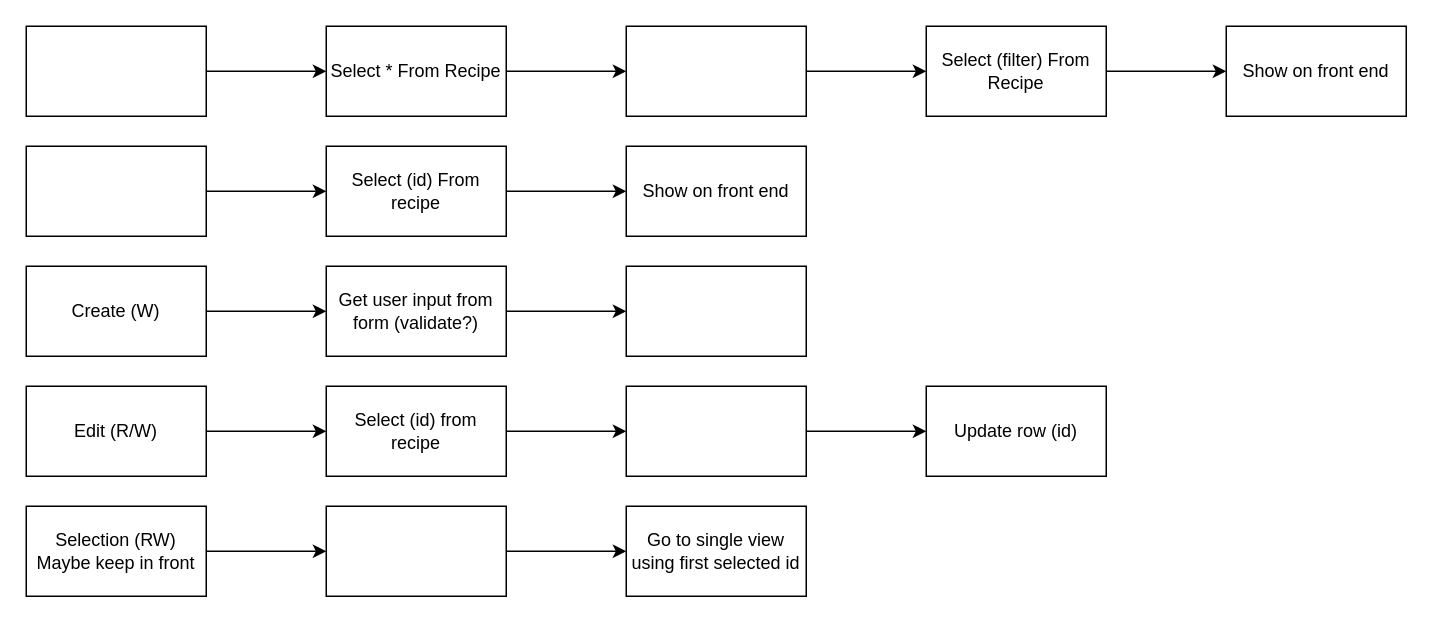
This 1433x623 diagram has some shape labels left out. Here are the shapes that lost their labels. From the top down, the centre of each, then its label:
At (x=115, y=70): "List View (R/W)".
At (x=715, y=70): "Front end input (filter or search)".
At (x=115, y=190): "Single View (R)".
At (x=715, y=310): "Add row with input".
At (x=715, y=430): "Fill form with data and allow user to edit".
At (x=415, y=550): "Add/remove from selection db".
